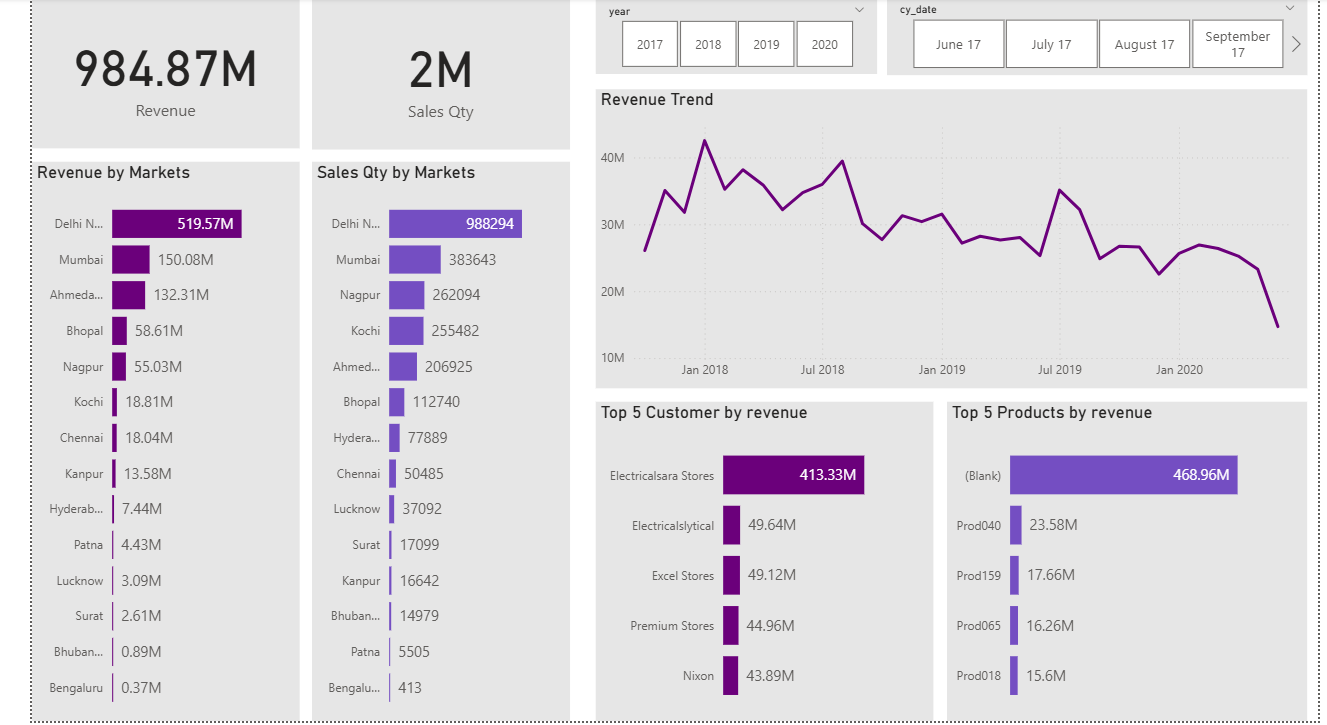

The dashboard page shown, as its layout file describes it:
{"tool":"powerbi","page":{"name":"Page 1","canvas":[1280,720],"ordinal":0},"visuals":[{"type":"card","fields":{"Values":["BaseMeasures.Revenue"]},"box":[0,0,266.2,149.6],"z":0},{"type":"card","fields":{"Values":["BaseMeasures.Sales Qty"]},"box":[278.6,1.4,256.6,149.6],"z":1000},{"type":"barChart","title":"Revenue by Markets","fields":{"Y":["BaseMeasures.Revenue"],"Category":["sales markets.markets_name"]},"box":[0,163.3,266.2,557.1],"z":2000},{"type":"barChart","title":"Sales Qty by Markets","fields":{"Y":["BaseMeasures.Sales Qty"],"Category":["sales markets.markets_name"]},"box":[278.6,163.3,256.6,557.1],"z":3000},{"type":"slicer","fields":{"Values":["sales date.year"]},"box":[561.2,1.4,279.9,74.1],"z":4000},{"type":"slicer","fields":{"Values":["sales date.cy_date"]},"box":[850.8,0,418.5,76.8],"z":5000},{"type":"barChart","title":"Top 5 Customer by revenue","fields":{"Y":["BaseMeasures.Revenue"],"Category":["sales customers.custmer_name"]},"box":[561.2,402.1,336.2,318.4],"z":6000},{"type":"barChart","title":"Top 5 Products by revenue","fields":{"Y":["BaseMeasures.Revenue"],"Category":["sales products.product_code"]},"box":[911.2,402.1,358.1,318.4],"z":7000},{"type":"lineChart","title":"Revenue Trend","fields":{"Y":["BaseMeasures.Revenue"],"Category":["sales date.cy_date.Variation.Date Hierarchy.Year","sales date.cy_date.Variation.Date Hierarchy.Quarter","sales date.cy_date.Variation.Date Hierarchy.Month","sales date.cy_date.Variation.Date Hierarchy.Day"]},"box":[561.2,90.6,708.1,297.8],"z":8000}]}

Visuals, with their boxes in screenshot pixels (x1, y1, x2, y2), scaled from the page's 1280x720 canvas onto the 1327x725 screenshot:
card - BaseMeasures.Revenue: (0, 0, 276, 151)
card - BaseMeasures.Sales Qty: (289, 1, 555, 152)
"Revenue by Markets" barChart: (0, 164, 276, 724)
"Sales Qty by Markets" barChart: (289, 164, 555, 724)
slicer - sales date.year: (582, 1, 872, 76)
slicer - sales date.cy_date: (882, 0, 1316, 77)
"Top 5 Customer by revenue" barChart: (582, 405, 930, 724)
"Top 5 Products by revenue" barChart: (945, 405, 1316, 724)
"Revenue Trend" lineChart: (582, 91, 1316, 391)
